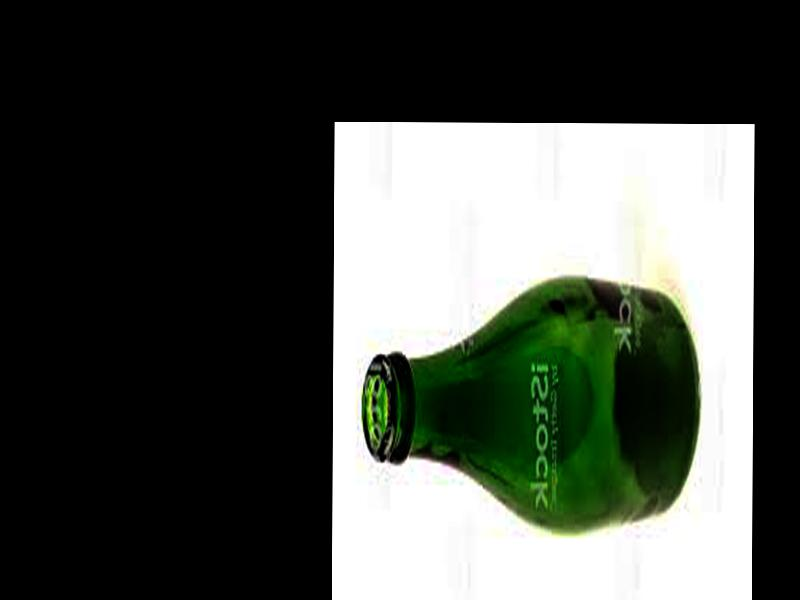Beer: (360, 274, 700, 535)
